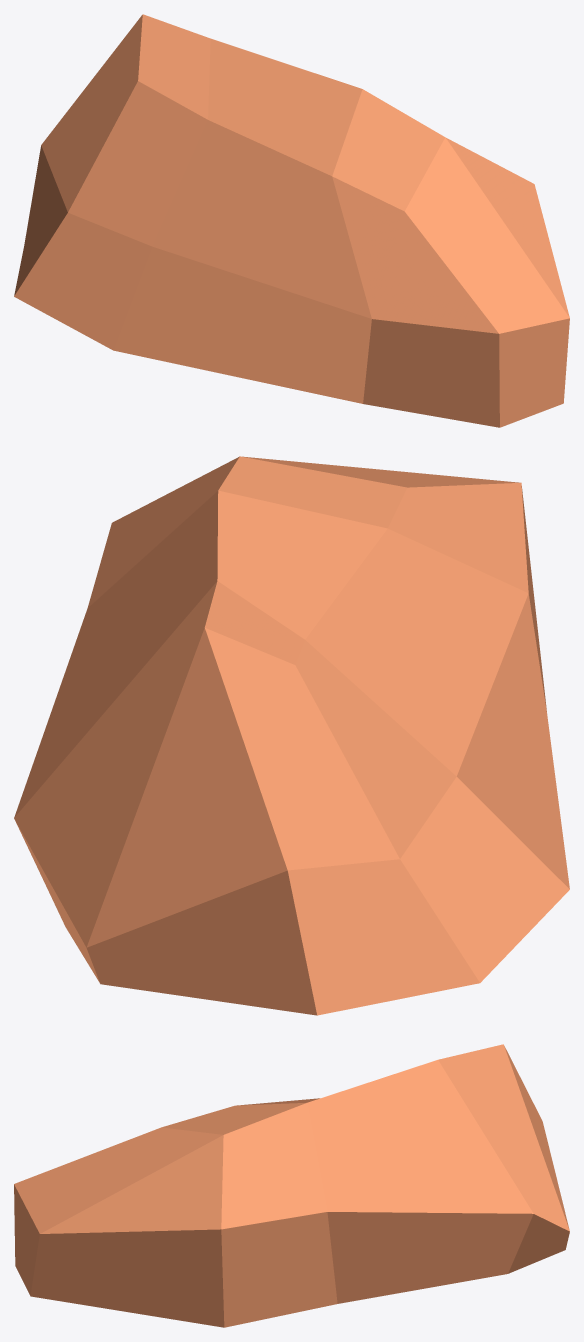
Rendered from Rock_8.fbx.
3 renders of one model, top to bottom at view 1: azimuth 30°, elevation 25°; view 2: azimuth 150°, elevation 25°; view 3: azimuth 270°, elevation 25°, orthographic. The views are drawn at different scales.
Parts seen in each view (by area): view 1: Rock_8; view 2: Rock_8; view 3: Rock_8.
Boxes of the visible parts, x1,y1,x2,y2 form: Rock_8: (14, 14, 569, 427); Rock_8: (14, 456, 569, 1015); Rock_8: (14, 1044, 569, 1327).
Size of the model in its own units: 37.53 by 20.79 by 54.73.
